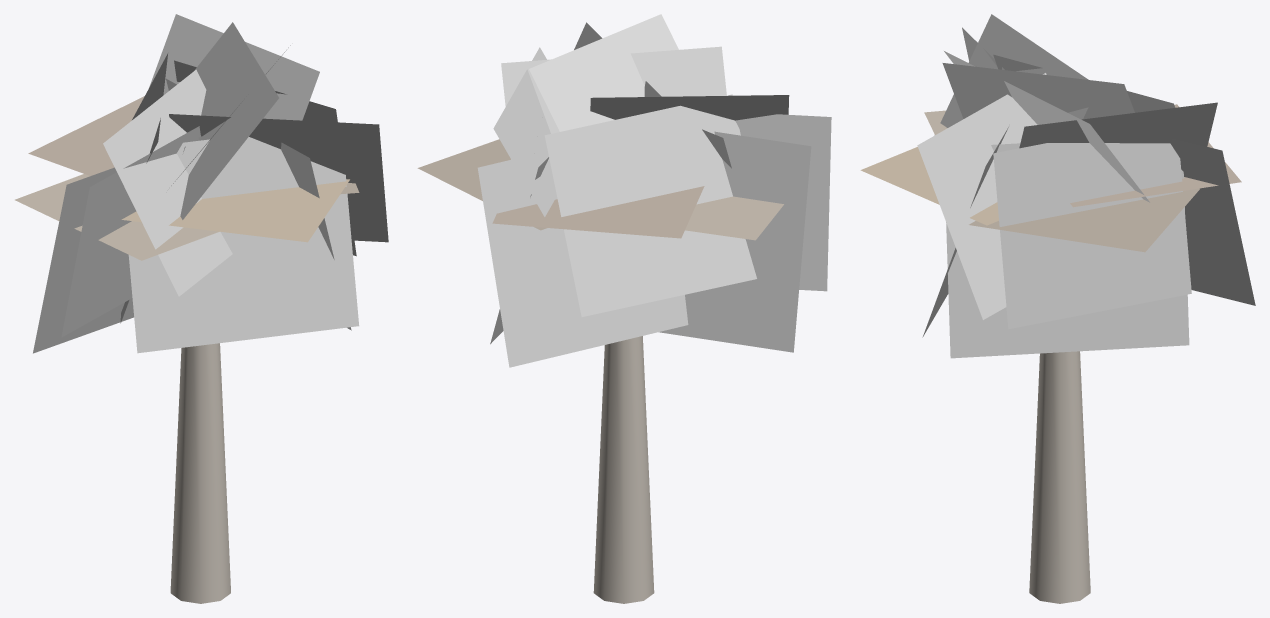
Rendered from tree-autumn-v1.glb.
3 renders of one model, left to right at view 1: azimuth 30°, elevation 25°; view 2: azimuth 150°, elevation 25°; view 3: azimuth 270°, elevation 25°, orthographic.
Parts seen in each view (by area): view 1: tree-autumn-v1.lod0; view 2: tree-autumn-v1.lod0; view 3: tree-autumn-v1.lod0.
Boxes of the visible parts, x1=… form: tree-autumn-v1.lod0: x1=15, y1=14, x2=388, y2=603; tree-autumn-v1.lod0: x1=417, y1=14, x2=831, y2=603; tree-autumn-v1.lod0: x1=860, y1=14, x2=1255, y2=603.
Size of the model in its own units: 6.05 by 9.12 by 6.08.
